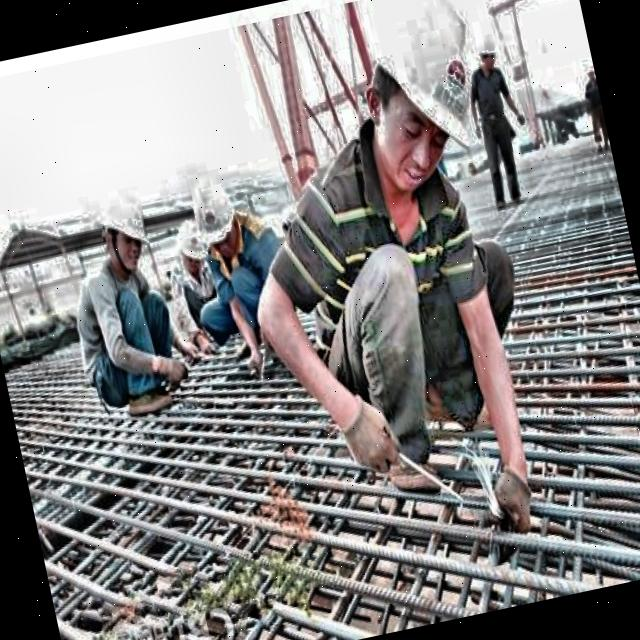helmet: (340, 12, 484, 210), (87, 179, 160, 286), (183, 160, 243, 262), (164, 209, 212, 282), (472, 26, 506, 76)
